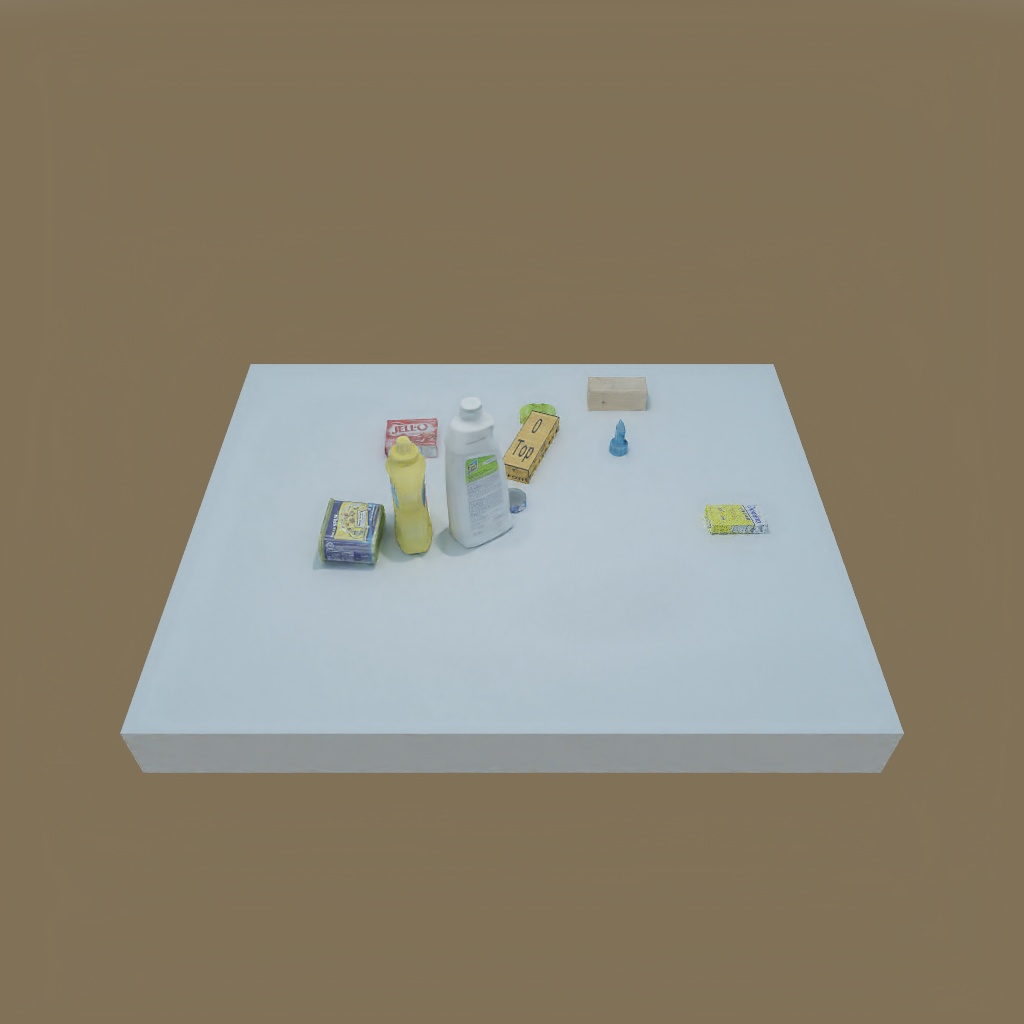gelatin_box: (381, 415, 443, 460)
jenga: (501, 407, 555, 482)
mustard_bottle: (382, 433, 434, 551)
potted_meat_can: (316, 497, 384, 569)
wood_block: (581, 372, 651, 415)
